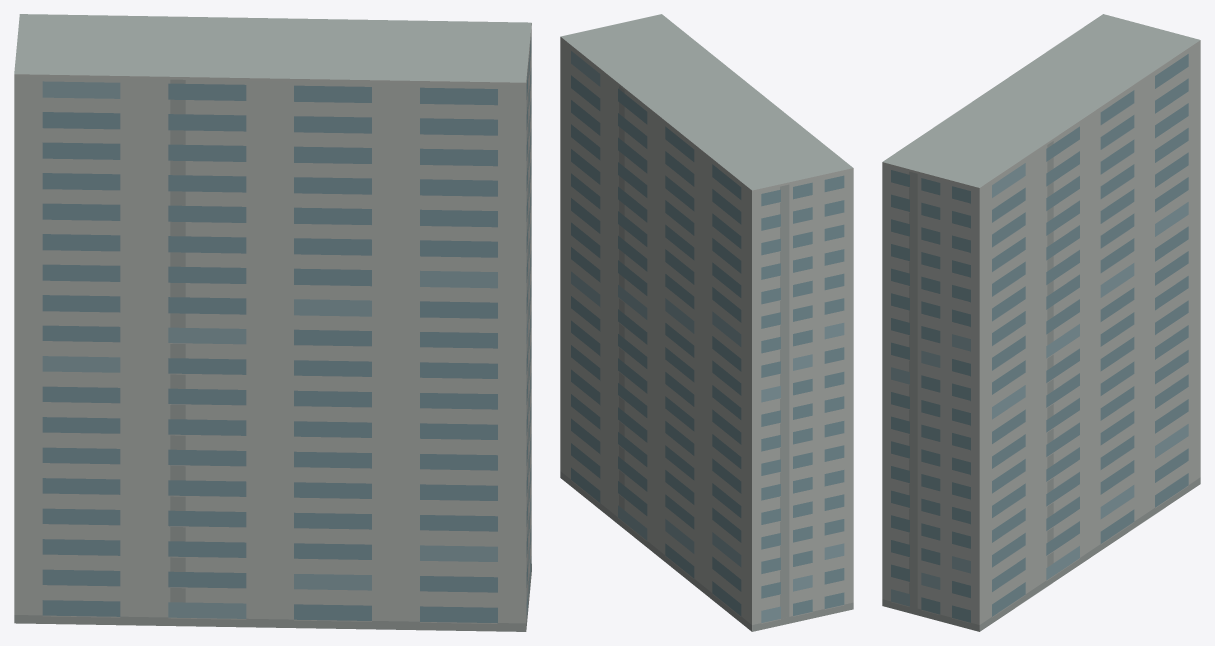
File: residential-26190529-266b-4077-ae99-c1f996c06f3d.glb
The picture shows the model from 3 angles, left to right: view 1: azimuth 30°, elevation 25°; view 2: azimuth 150°, elevation 25°; view 3: azimuth 270°, elevation 25°; orthographic projection. The views are drawn at different scales.
Visible parts, largest first — view 1: residential-26190529-266b-4077-ae99-c1f996c06f3d.tmp; view 2: residential-26190529-266b-4077-ae99-c1f996c06f3d.tmp; view 3: residential-26190529-266b-4077-ae99-c1f996c06f3d.tmp.
Boxes of the visible parts, <box> form: residential-26190529-266b-4077-ae99-c1f996c06f3d.tmp: <box>14,14,531,631</box>; residential-26190529-266b-4077-ae99-c1f996c06f3d.tmp: <box>560,14,853,631</box>; residential-26190529-266b-4077-ae99-c1f996c06f3d.tmp: <box>882,14,1200,631</box>.
Size of the model in its own units: 40.36 by 48 by 31.22.
